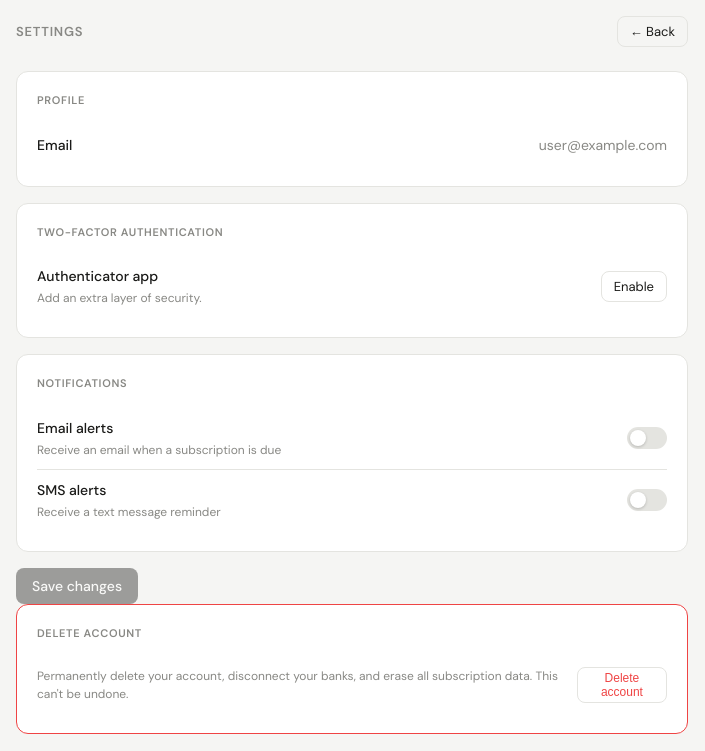
Scenario: Settings — Save button disabled state › becomes enabled after toggling email alerts
Click the checkbox in the row of "Email alerts" at x=647, y=438, box [627, 427, 667, 449]
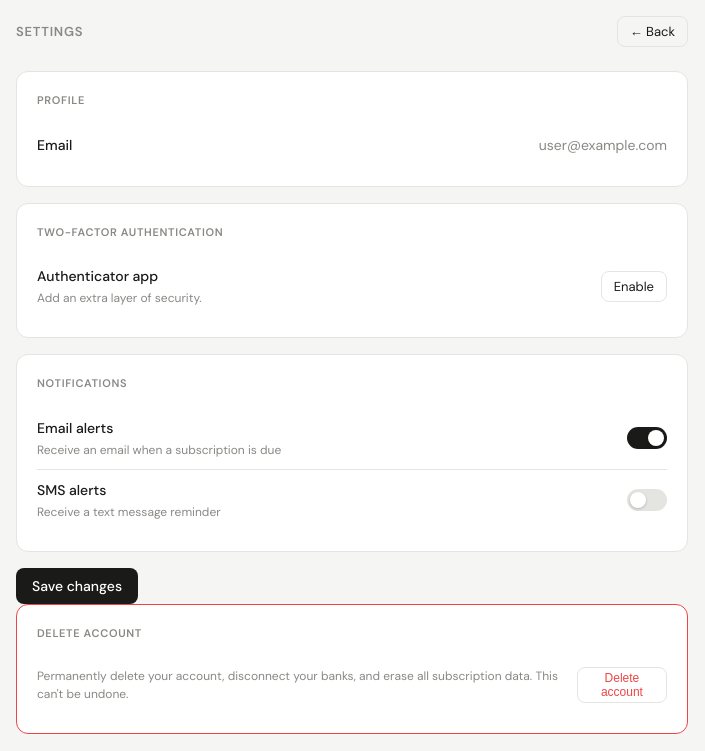
Result: the button "Save changes" is enabled at [16, 568, 138, 604]
